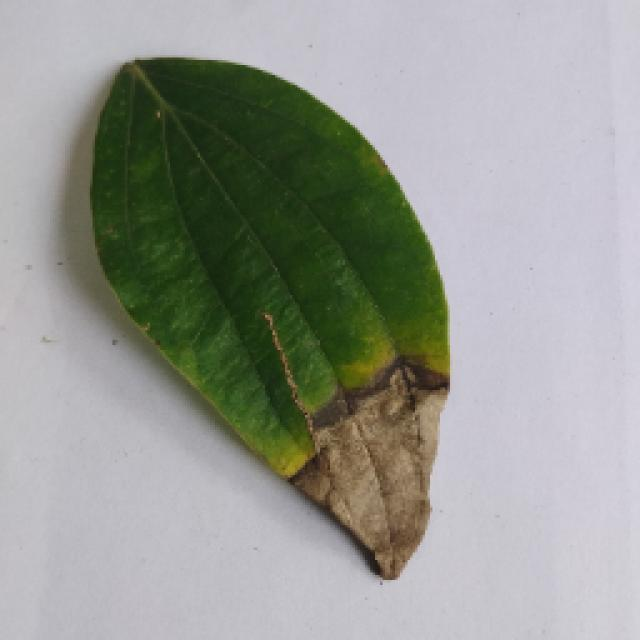footrot: (63, 55, 465, 583)
